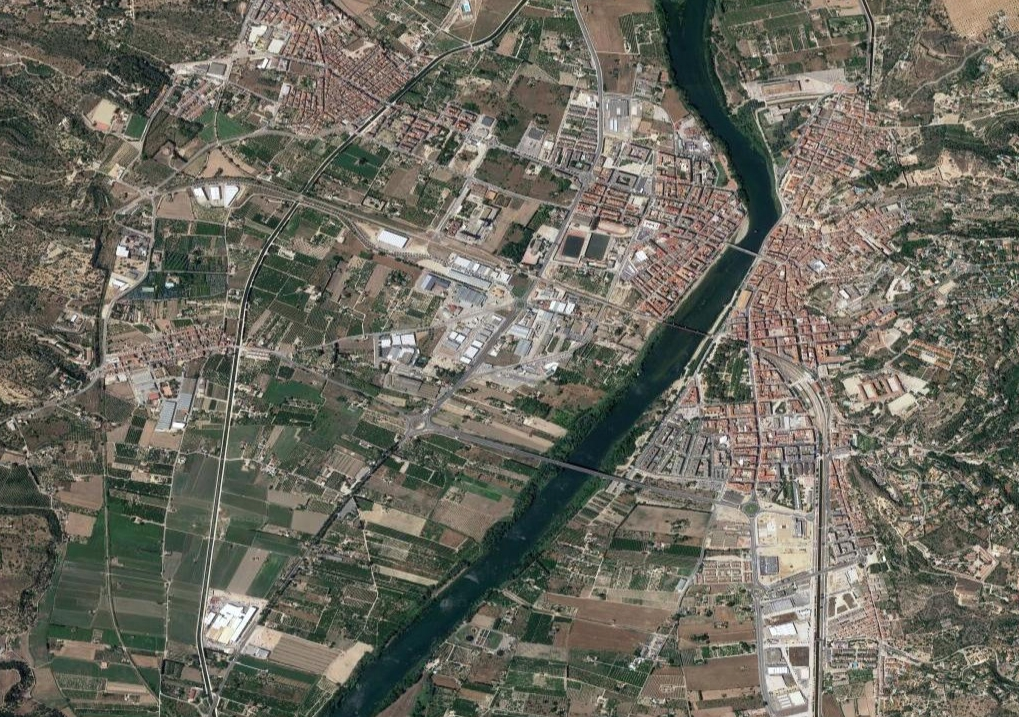bridge: (551, 453, 613, 486), (657, 311, 719, 344), (721, 235, 766, 263)
industrial: (410, 248, 505, 364), (760, 600, 815, 712)
